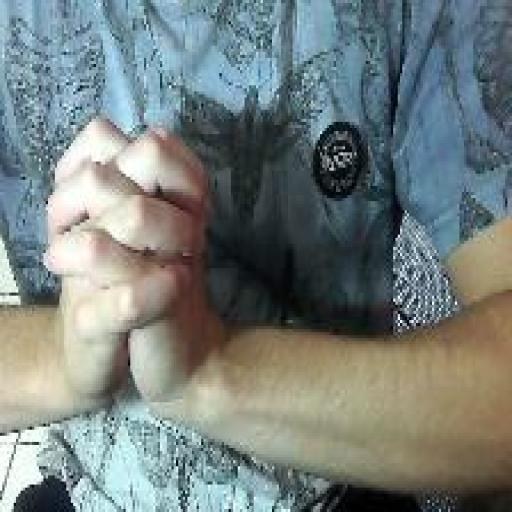Mi -snake-: (42, 111, 216, 428)
